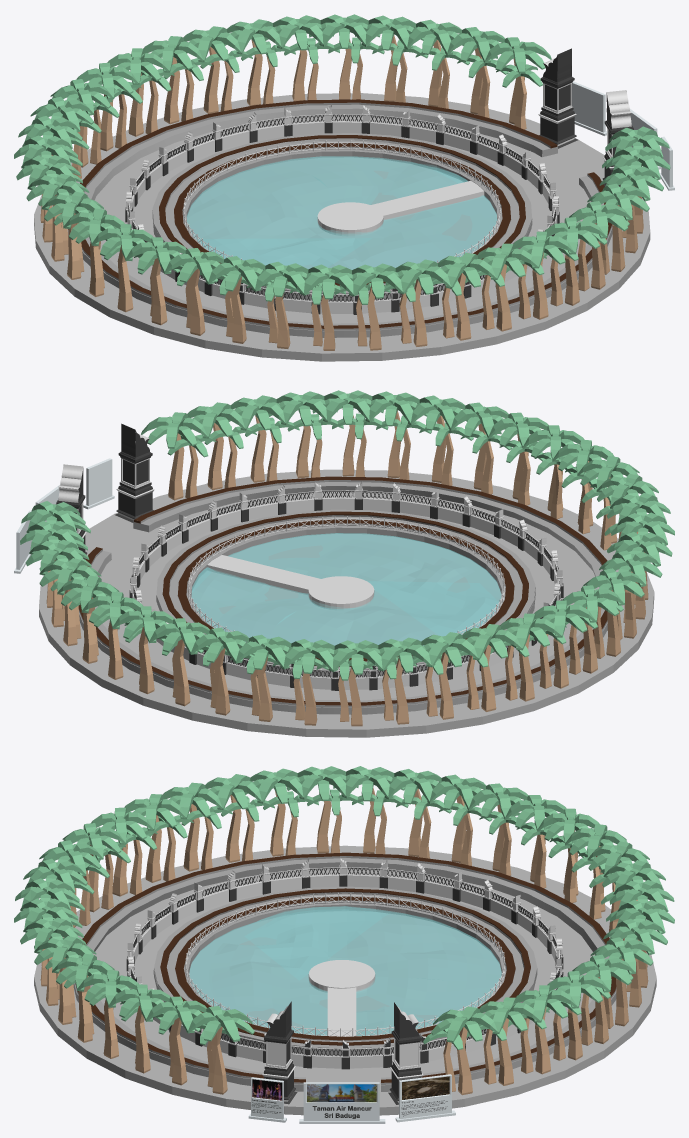
The model's file is situBuleud.glb.
The picture shows the model from 3 angles, top to bottom: view 1: azimuth 30°, elevation 25°; view 2: azimuth 150°, elevation 25°; view 3: azimuth 270°, elevation 25°; orthographic projection.
Visible parts, largest first — view 1: Group 152, Circle.003, Circle, Plane, Gapura.001, Circle.004, Circle.001, Circle.005, Circle.002, Gapura.003, Cylinder, Cube.001 (+3 smaller); view 2: Group 152, Circle.003, Circle, Plane, Gapura.001, Circle.004, Circle.001, Circle.005, Circle.002, Gapura.002, Cylinder, Cube.001 (+4 smaller); view 3: Group 152, Circle, Plane, Circle.003, Gapura.001, Circle.004, Circle.001, Circle.002, Circle.005, Cylinder, Plane.003, Plane.004 (+5 smaller).
Part boxes in pixels (x1=…): Group 152: x1=14, y1=14, x2=670, y2=350; Circle.003: x1=34, y1=93, x2=650, y2=361; Circle: x1=152, y1=149, x2=531, y2=300; Plane: x1=186, y1=156, x2=497, y2=269; Gapura.001: x1=125, y1=105, x2=559, y2=314; Circle.004: x1=82, y1=104, x2=612, y2=337; Circle.001: x1=152, y1=140, x2=532, y2=299; Circle.005: x1=80, y1=99, x2=612, y2=330; Circle.002: x1=152, y1=133, x2=532, y2=295; Gapura.003: x1=538, y1=48, x2=577, y2=148; Cylinder: x1=183, y1=140, x2=500, y2=267; Cube.001: x1=371, y1=180, x2=484, y2=220; Group 152: x1=20, y1=390, x2=674, y2=726; Circle.003: x1=39, y1=469, x2=654, y2=737; Circle: x1=157, y1=525, x2=535, y2=676; Plane: x1=191, y1=533, x2=501, y2=645; Gapura.001: x1=129, y1=481, x2=563, y2=690; Circle.004: x1=79, y1=482, x2=607, y2=714; Circle.001: x1=169, y1=516, x2=535, y2=661; Circle.005: x1=78, y1=476, x2=607, y2=707; Circle.002: x1=156, y1=509, x2=535, y2=676; Gapura.002: x1=115, y1=423, x2=154, y2=522; Cylinder: x1=188, y1=516, x2=505, y2=642; Cube.001: x1=207, y1=555, x2=320, y2=594; Group 152: x1=14, y1=766, x2=674, y2=1095; Circle: x1=154, y1=902, x2=506, y2=1055; Plane: x1=189, y1=906, x2=501, y2=1035; Circle.003: x1=34, y1=845, x2=656, y2=1115; Gapura.001: x1=126, y1=858, x2=563, y2=1069; Circle.004: x1=73, y1=858, x2=616, y2=1091; Circle.001: x1=153, y1=893, x2=523, y2=1052; Circle.002: x1=154, y1=886, x2=537, y2=1054; Circle.005: x1=75, y1=852, x2=616, y2=1084; Cylinder: x1=185, y1=893, x2=505, y2=1036; Plane.003: x1=299, y1=1082, x2=385, y2=1123; Plane.004: x1=395, y1=1074, x2=455, y2=1122.
Size of the model in its own units: 47.4 by 7.87 by 46.43.
Materials: 16 (3 with a texture image).
